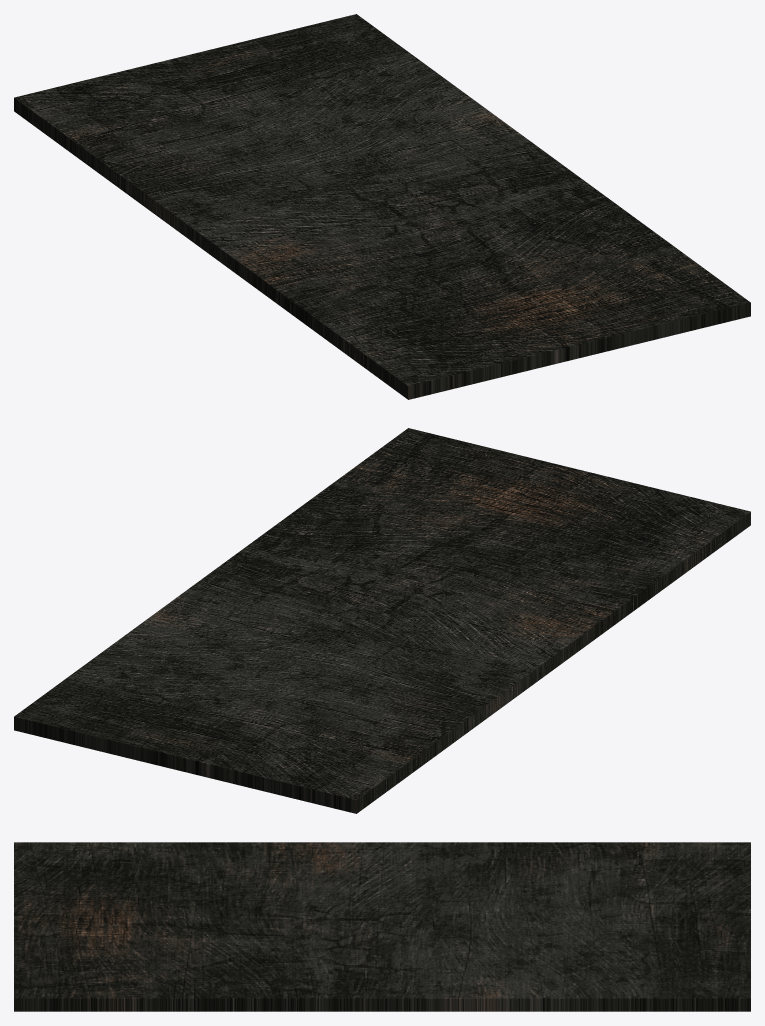
The model's file is ceilling.fbx.
3 renders of one model, top to bottom at view 1: azimuth 30°, elevation 25°; view 2: azimuth 150°, elevation 25°; view 3: azimuth 270°, elevation 25°, orthographic. The views are drawn at different scales.
Visible parts, largest first — view 1: Plane.001; view 2: Plane.001; view 3: Plane.001.
Boxes of the visible parts, x1,y1,x2,y2 form: Plane.001: [14, 14, 750, 399]; Plane.001: [14, 428, 750, 813]; Plane.001: [14, 842, 750, 1011].
Bounding box in the file's own units: 400 × 15.31 × 798.
Materials: 1 (1 with a texture image).
